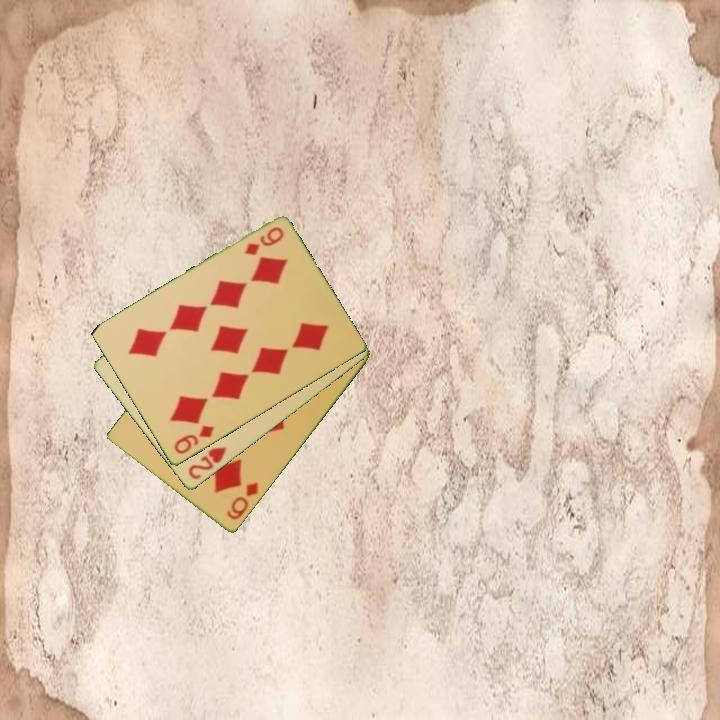2h: (184, 444, 229, 483)
6d: (223, 479, 261, 523)
9d: (241, 223, 287, 259), (170, 422, 217, 457)
